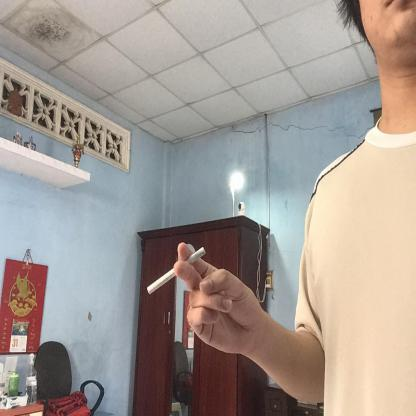cigarette: (145, 266, 176, 300)
